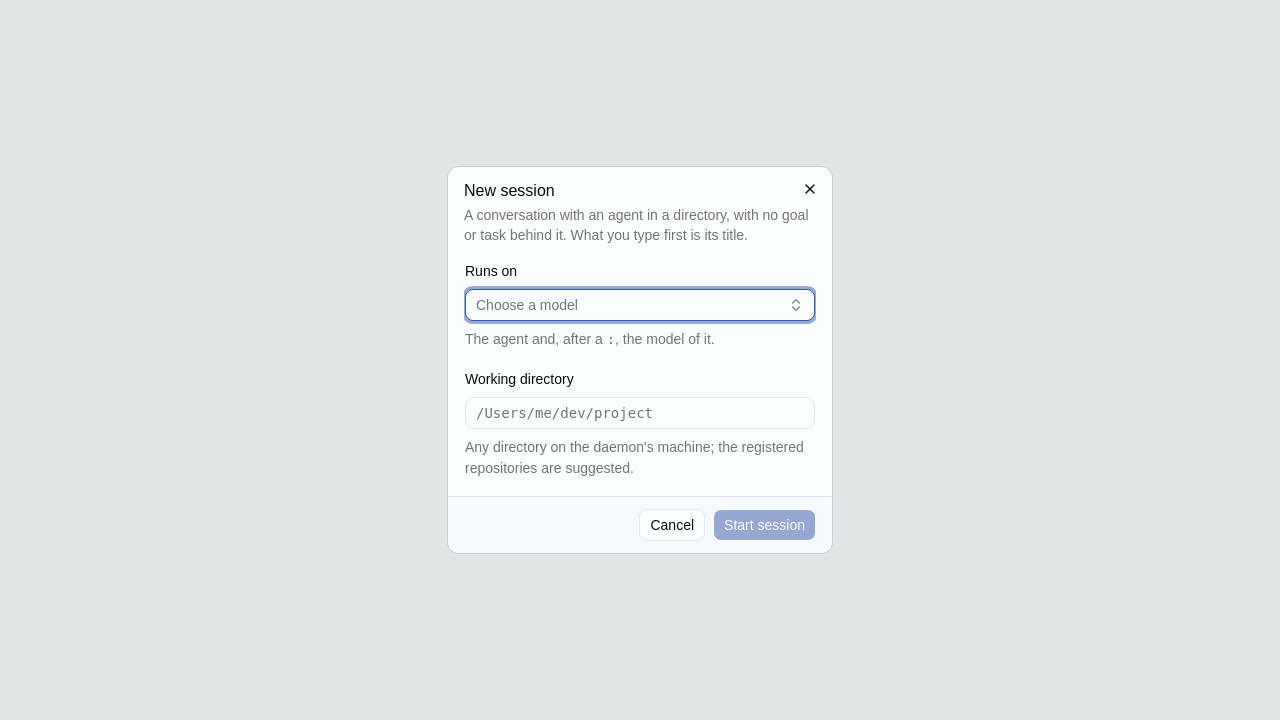
Test case: refuses a relative directory before asking the daemon
Click the button with aria-label "Runs on".
click(527, 305)  # box [465,289,815,321]
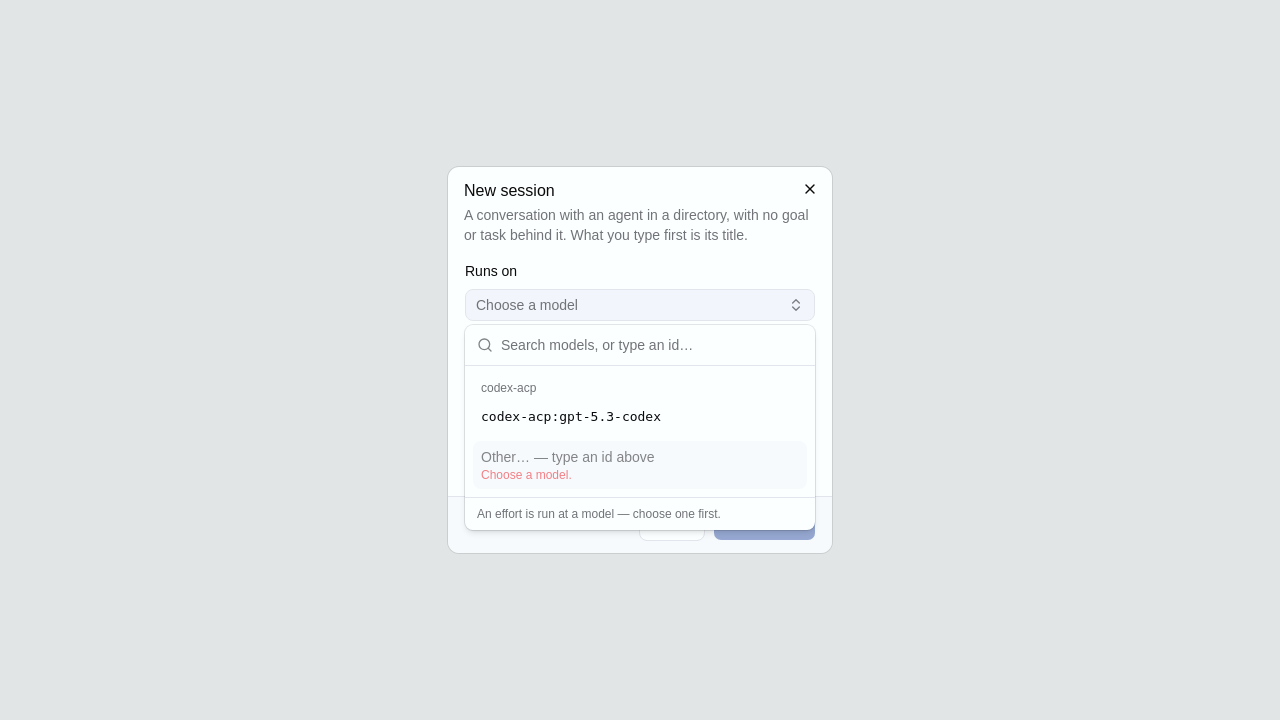
Click the option "codex-acp:gpt-5.3-codex".
click(571, 416)  # box [481,409,661,424]
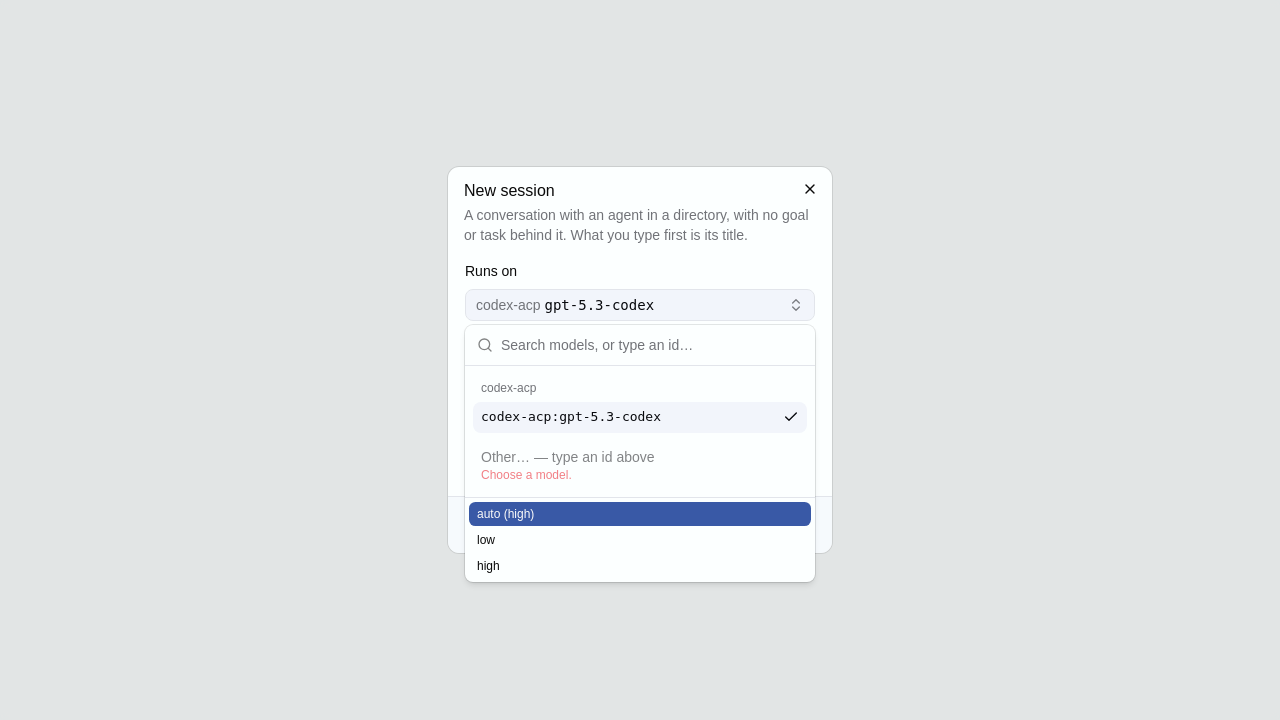
Press Escape
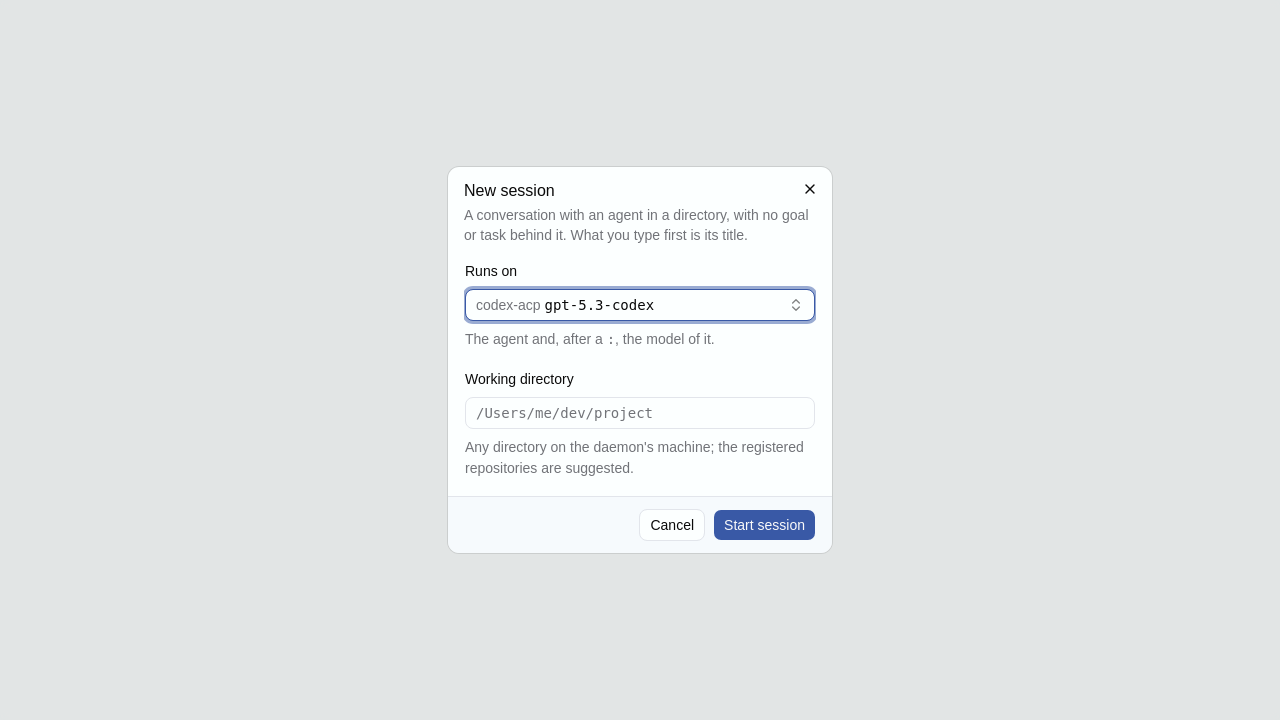
Type "dev/ariadne" into the field labelled "Working directory".
click(640, 413); type("dev/ariadne")  # box [465,397,815,429]
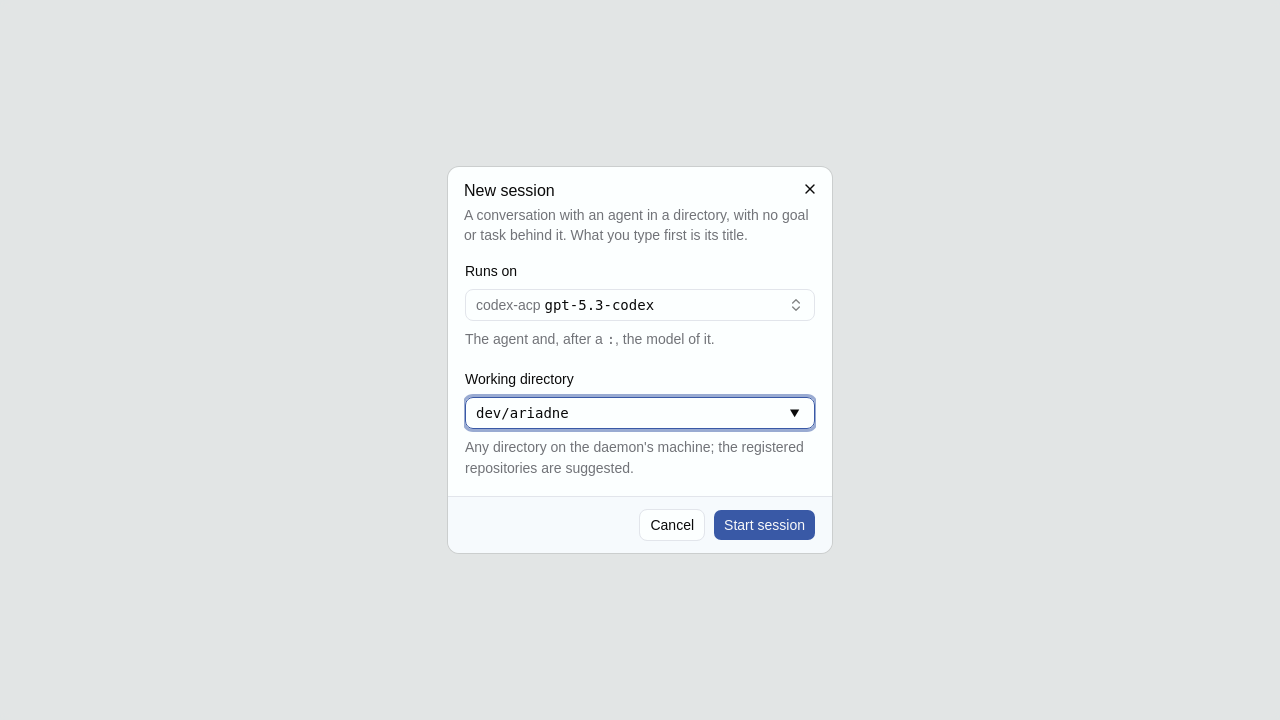
Click the button "Start session".
click(765, 525)  # box [713,509,816,541]
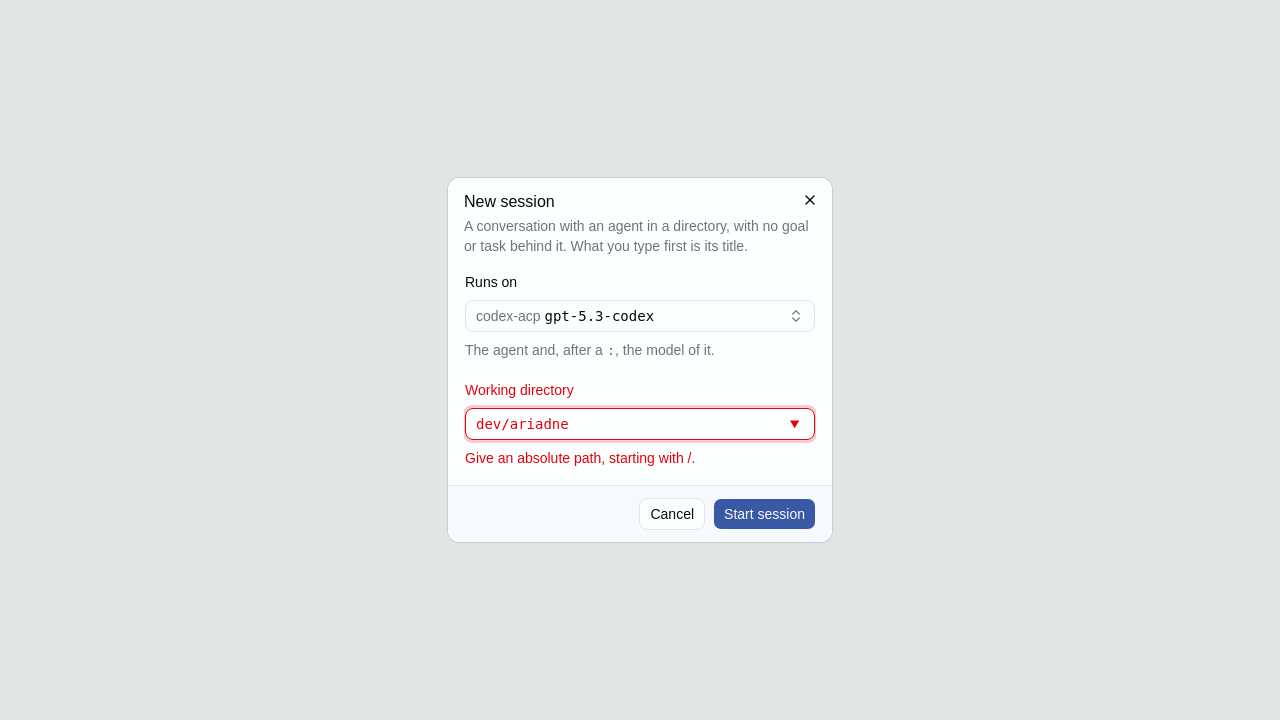
Now the text "Give an absolute path, starting with /." is shown, box [465,450,695,466]
